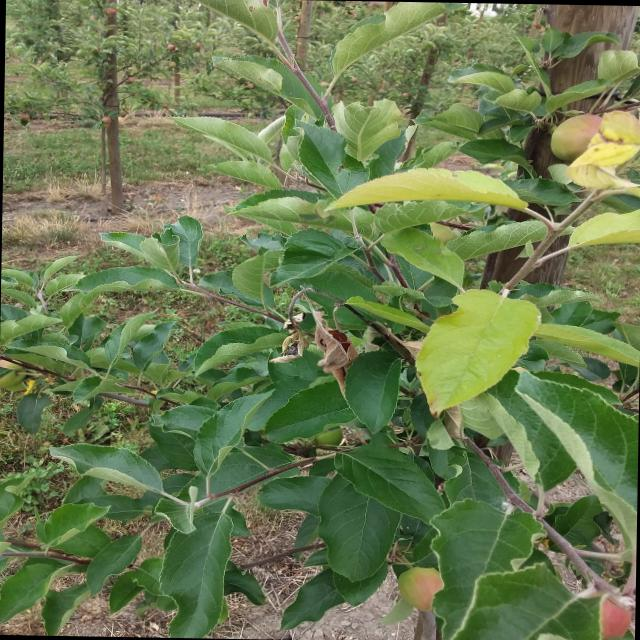-FireBlight-: (280, 298, 348, 372)
